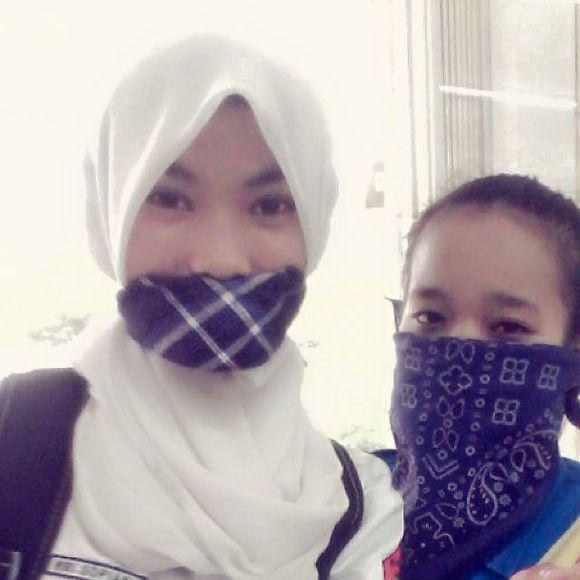OK: (397, 276, 574, 453)
WRONG: (114, 155, 317, 358)
